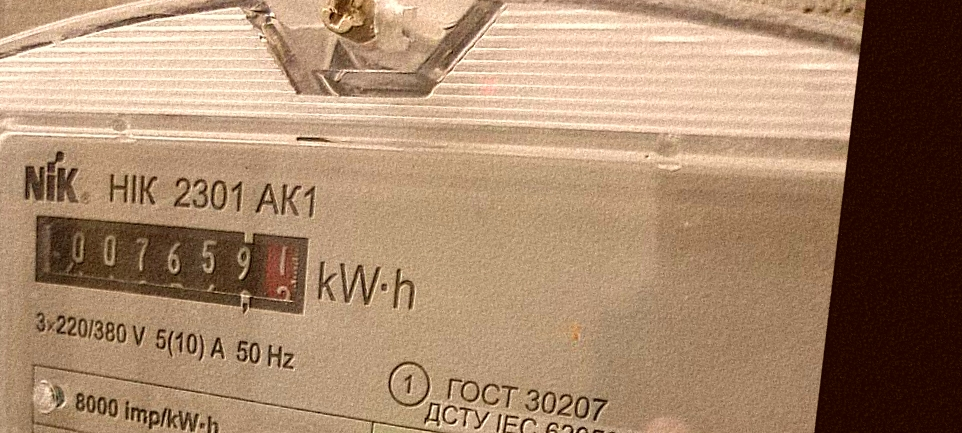0: (97, 229, 122, 271), (66, 227, 91, 268)
1: (270, 241, 294, 280)
5: (195, 236, 222, 278)
6: (161, 236, 187, 279)
7: (128, 233, 155, 274)
9: (231, 242, 256, 284)
screen: (18, 199, 319, 325)
